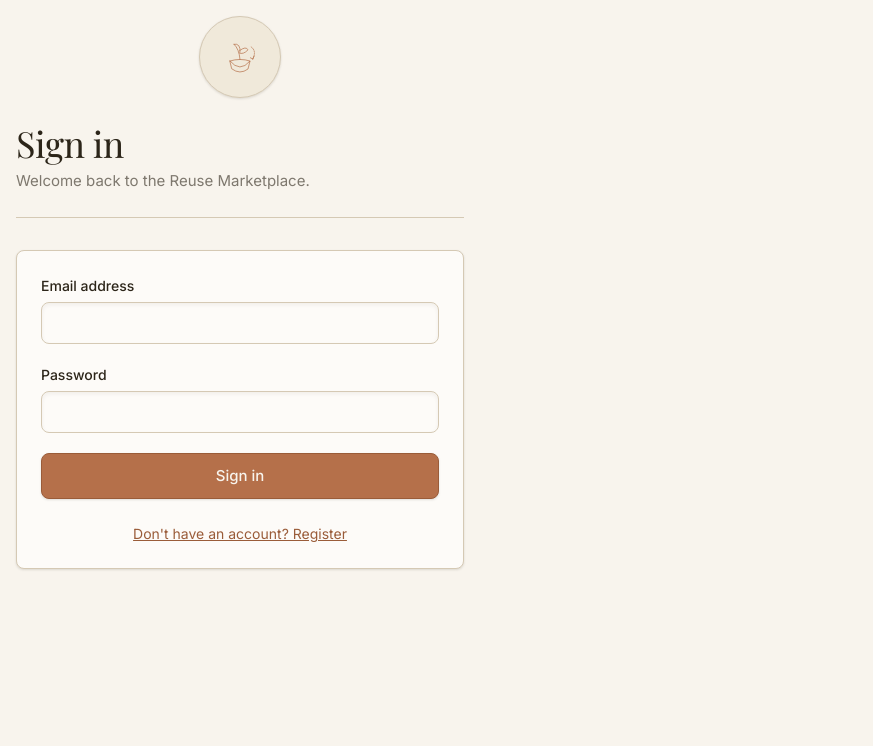
LoginPage › shows suspended account error on 403
This screenshot has width=873, height=746.
Type "alice@example.com" into the field labelled "Email address". click: (240, 323)
box: top-left (41, 302), bottom-right (439, 344)
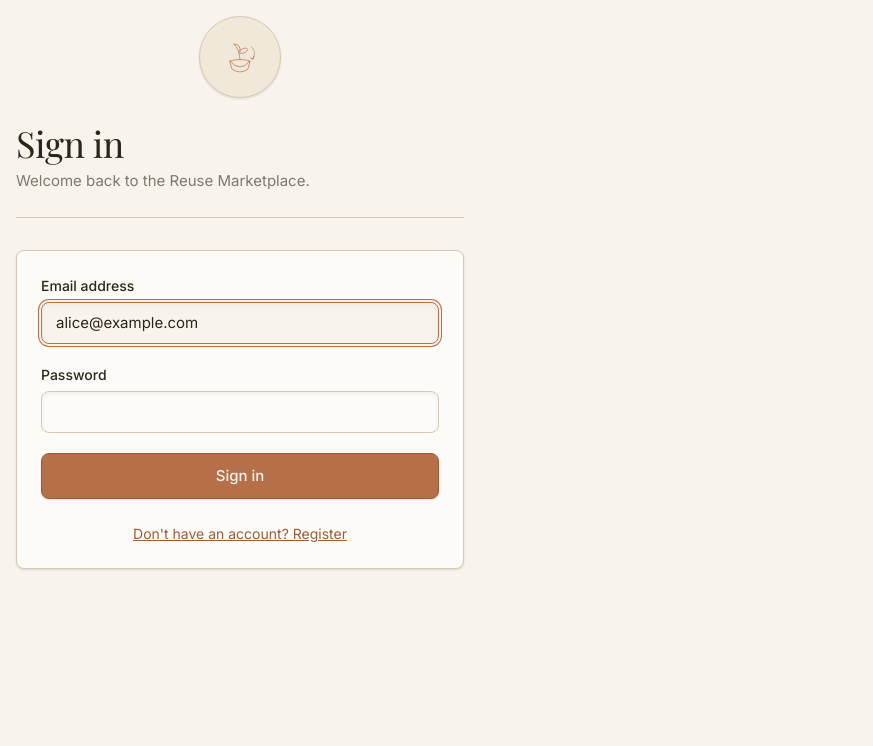
Type "SecurePass1" into the password field labelled "Password". click: (240, 412)
box: top-left (41, 391), bottom-right (439, 433)
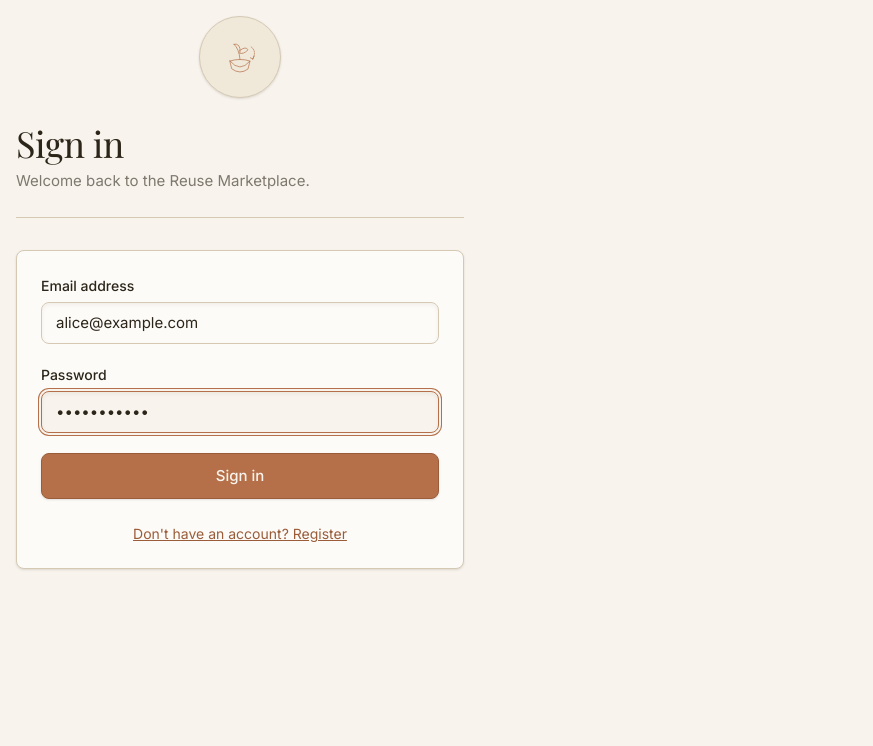
Click the button "Sign in". click: (240, 476)
box: top-left (41, 453), bottom-right (439, 499)
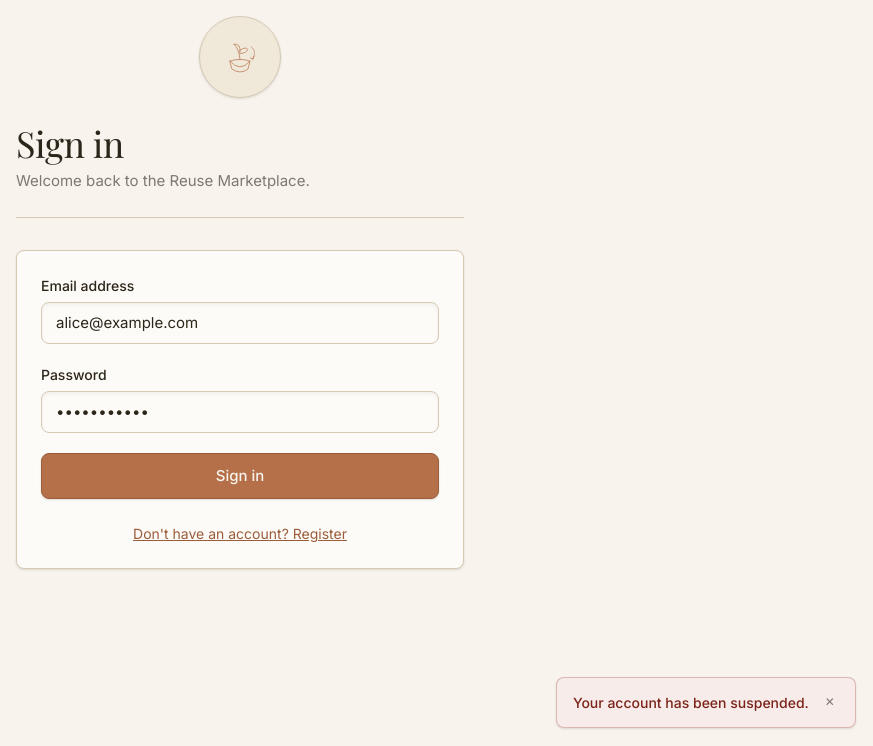
Now the text "Your account has been suspended." is shown, box top-left (573, 692), bottom-right (809, 713)
